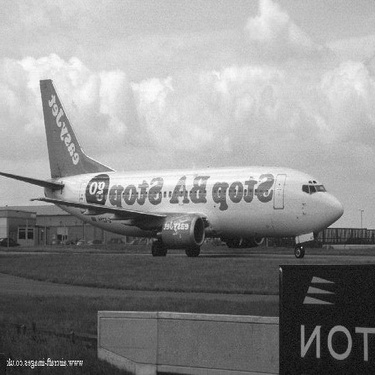airplane: (3, 67, 353, 268)
